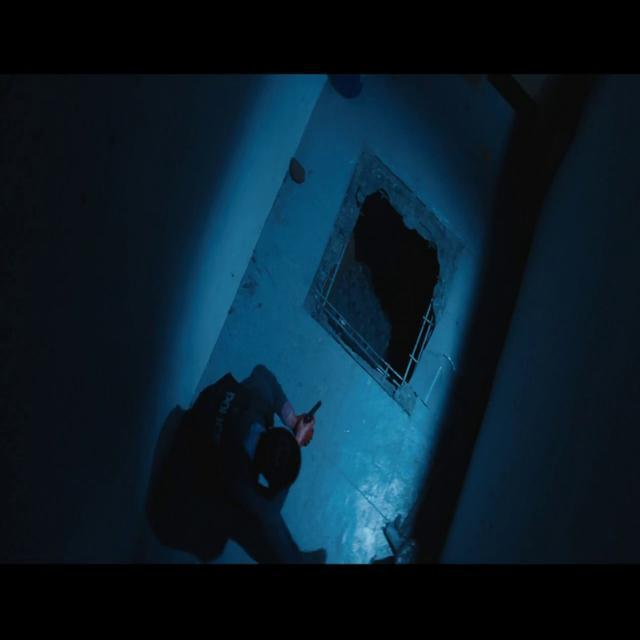gun-knife-thesis - v11 Yolov5 augmented: (298, 396, 323, 446)
